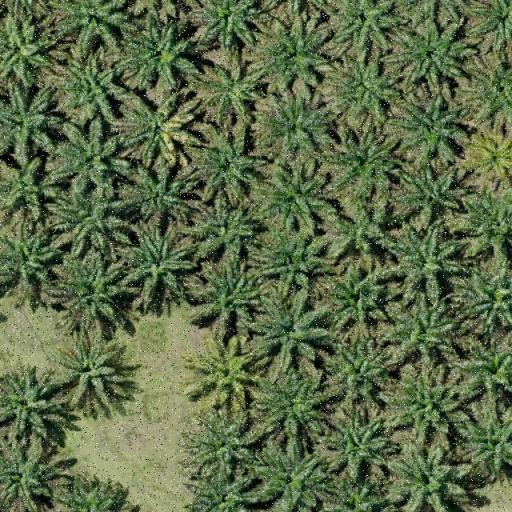Ganoderma: (476, 138, 512, 176)
